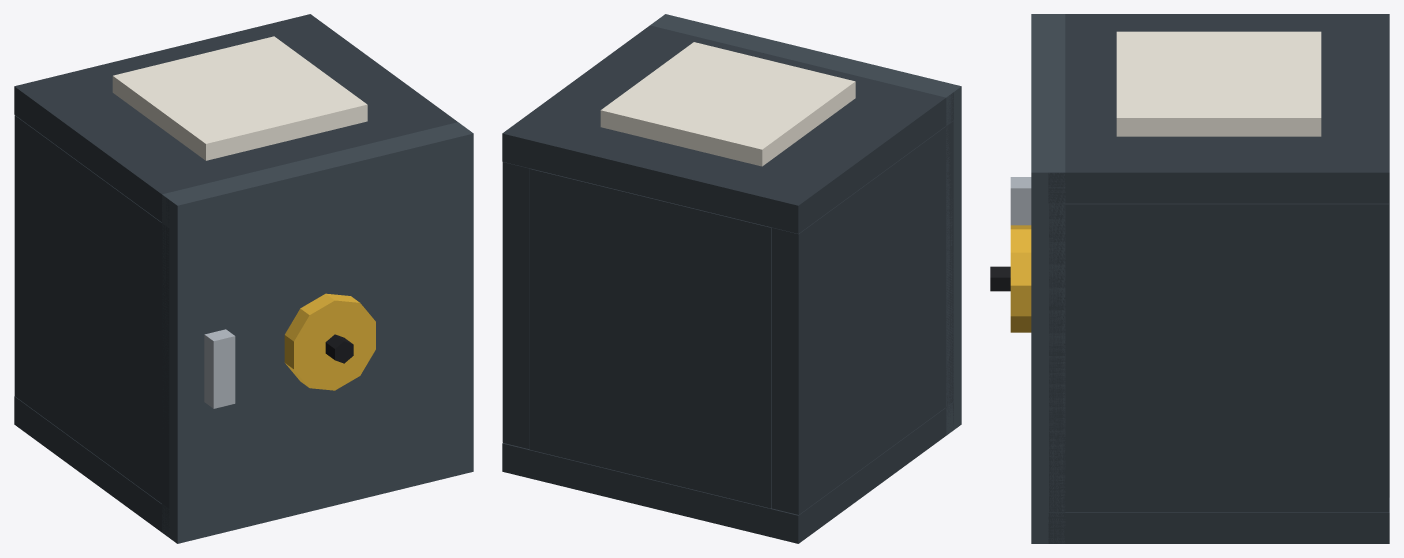
The model's file is safe.fbx.
3 renders of one model, left to right at view 1: azimuth 30°, elevation 25°; view 2: azimuth 150°, elevation 25°; view 3: azimuth 270°, elevation 25°, orthographic. The views are drawn at different scales.
Parts seen in each view (by area): view 1: MECH_safeDoor, safe; view 2: safe, MECH_safeDoor; view 3: safe, MECH_safeDoor.
Boxes of the visible parts, x1,y1,x2,y2 form: MECH_safeDoor: (162,122,473,543); safe: (14,14,457,535); safe: (502,25,953,543); MECH_safeDoor: (650,14,961,435); safe: (1048,14,1389,543); MECH_safeDoor: (990,14,1065,543).
Size of the model in its own units: 2.2 by 2.52 by 2.34.
